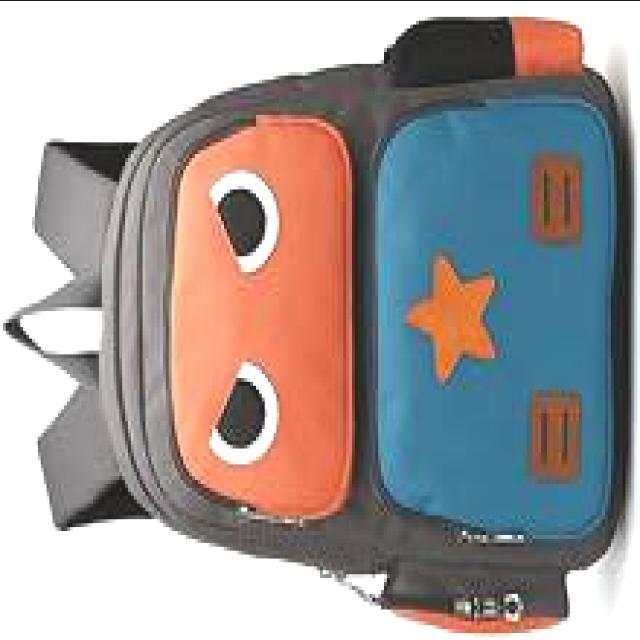backpack: (1, 17, 626, 640)
